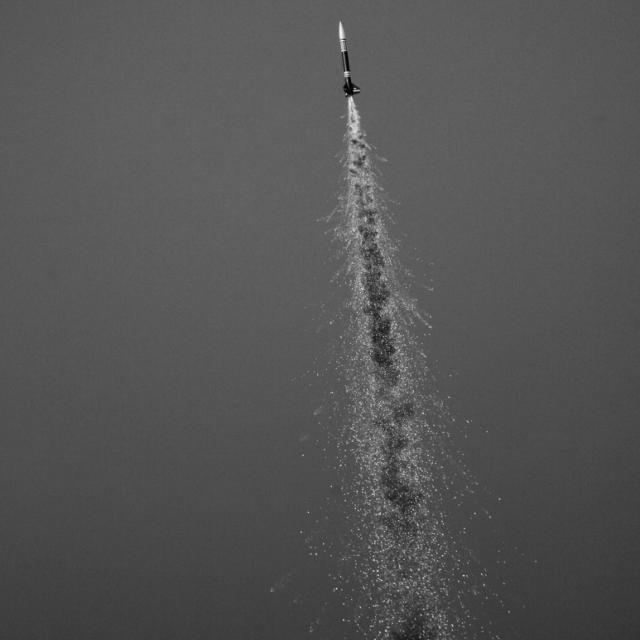missile: (333, 20, 362, 102)
